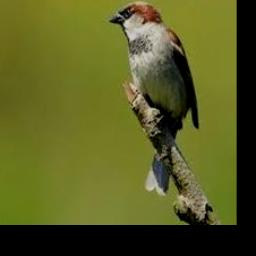Sparrow: (110, 1, 200, 195)
